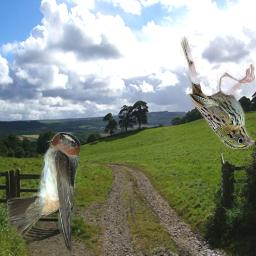Sparrow: (179, 36, 255, 149)
Swallow: (7, 132, 81, 253)
